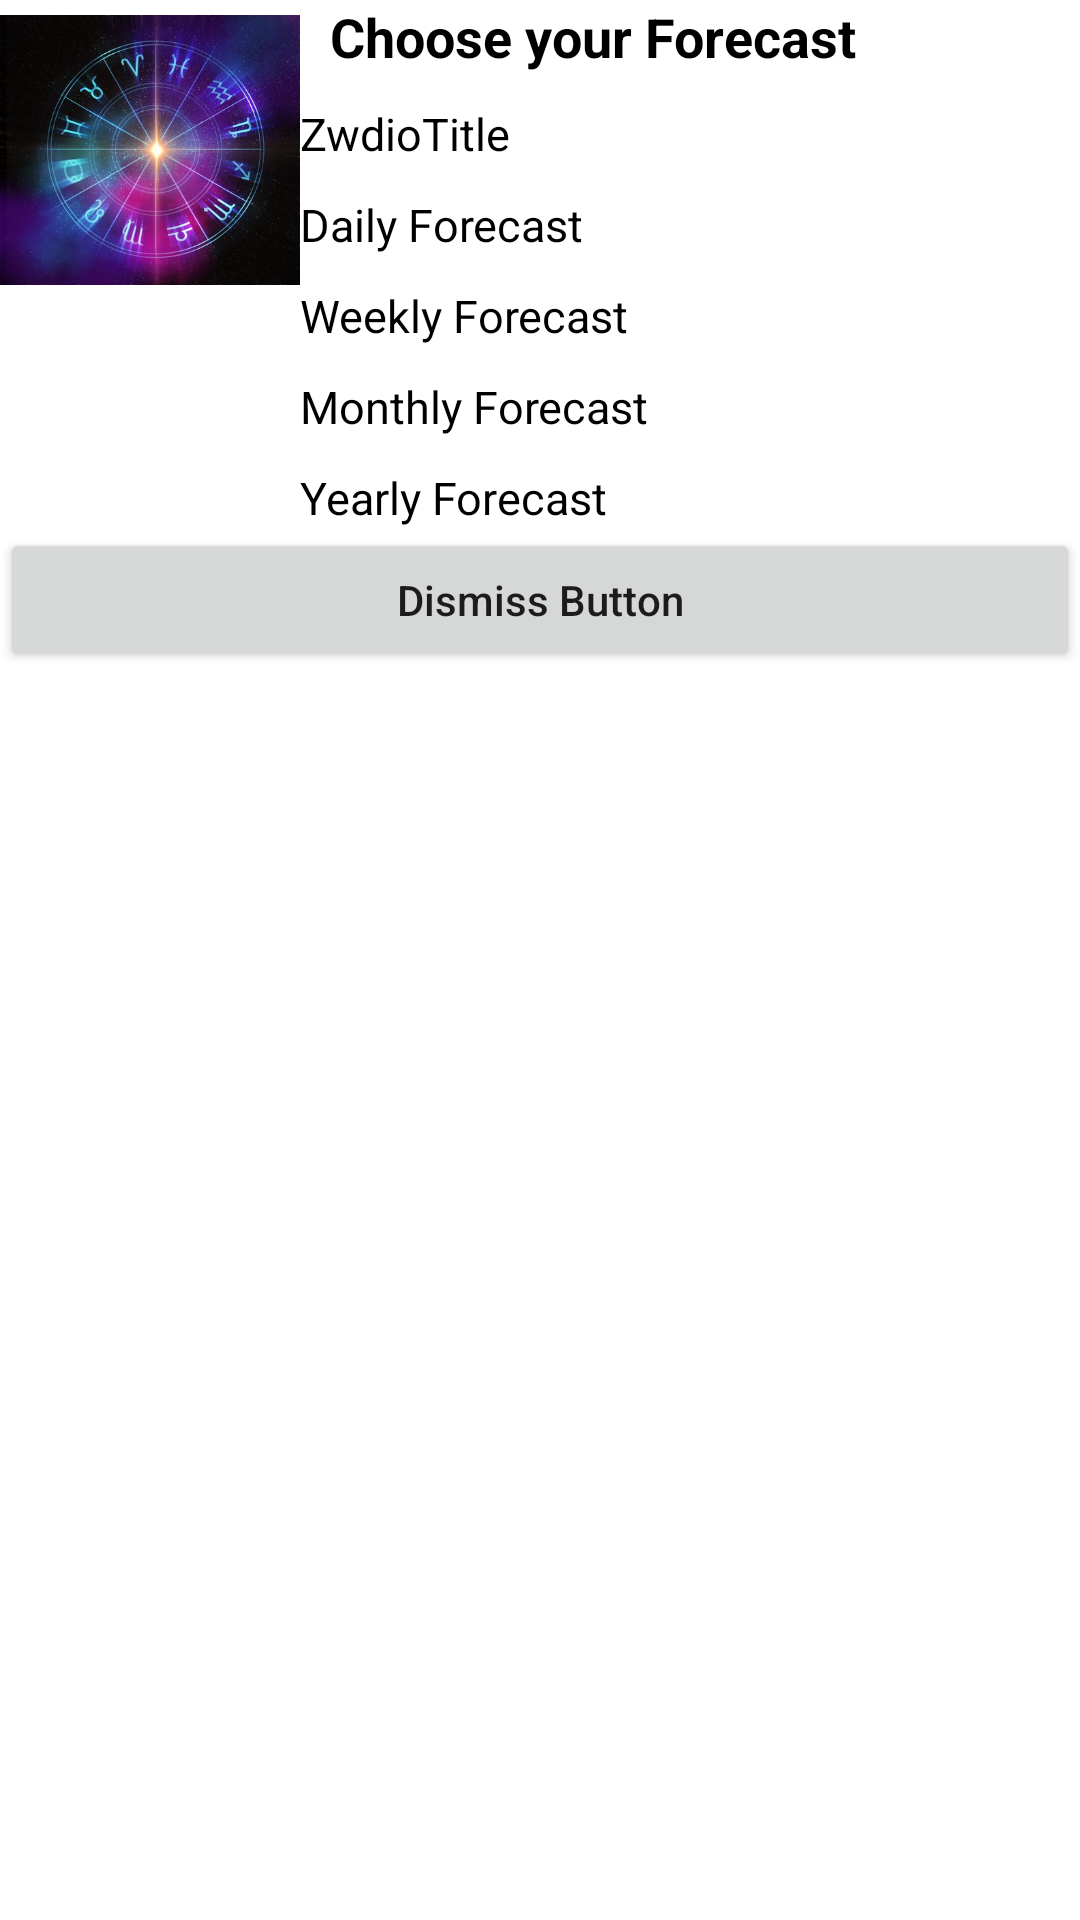

Screen size 1080x1920. Icon name, then its center in pixels as [x,y]:
horoscope: [150,150]
